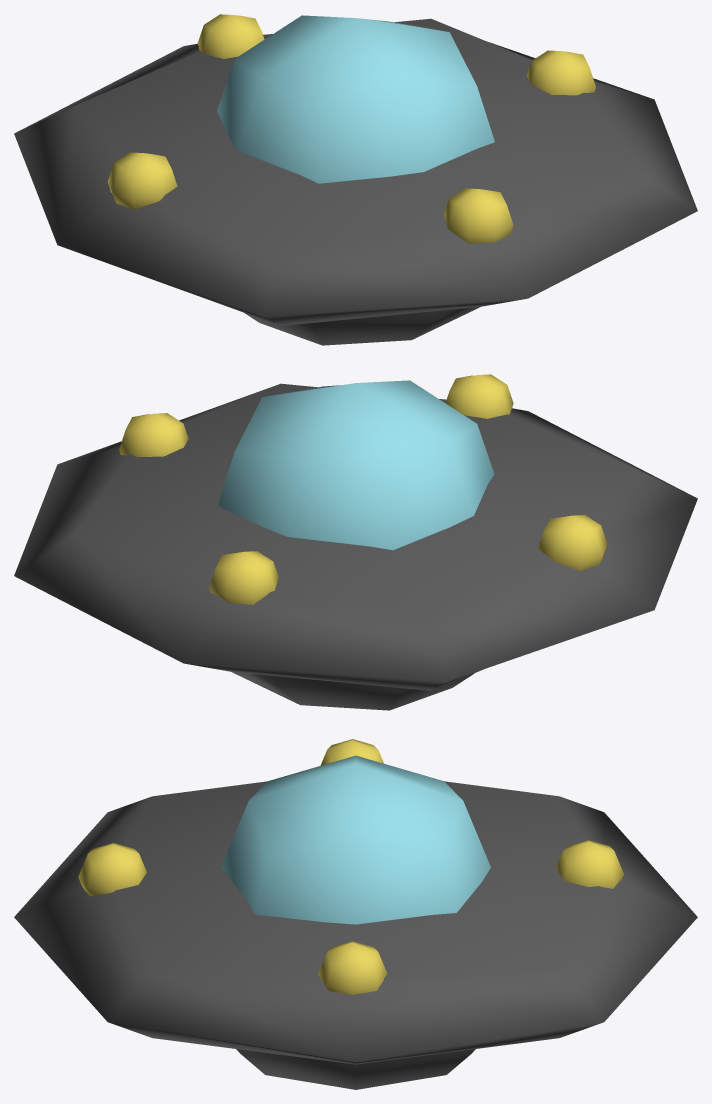
Rendered from ufo.glb.
The picture shows the model from 3 angles, top to bottom: view 1: azimuth 30°, elevation 25°; view 2: azimuth 150°, elevation 25°; view 3: azimuth 270°, elevation 25°; orthographic projection.
Parts seen in each view (by area): view 1: Cube.001, Cube.002, Cube, Cube.006, Cube.004, Cube.003, Cube.005; view 2: Cube.001, Cube.002, Cube, Cube.004, Cube.005, Cube.003, Cube.006; view 3: Cube.001, Cube.002, Cube, Cube.003, Cube.006, Cube.005, Cube.004.
Boxes of the visible parts, <box> form: Cube.001: <box>14,18,697,325</box>; Cube.002: <box>217,15,494,183</box>; Cube: <box>244,307,480,345</box>; Cube.006: <box>444,188,513,243</box>; Cube.004: <box>107,152,177,209</box>; Cube.003: <box>526,50,595,95</box>; Cube.005: <box>197,14,264,58</box>; Cube.001: <box>14,383,697,690</box>; Cube.002: <box>217,380,494,550</box>; Cube: <box>231,671,474,710</box>; Cube.004: <box>538,515,607,571</box>; Cube.005: <box>209,551,278,604</box>; Cube.003: <box>119,413,188,457</box>; Cube.006: <box>445,374,513,418</box>; Cube.001: <box>14,781,697,1064</box>; Cube.002: <box>221,755,490,924</box>; Cube: <box>236,1049,475,1089</box>; Cube.003: <box>318,941,387,995</box>; Cube.006: <box>78,843,146,896</box>; Cube.005: <box>555,840,623,888</box>; Cube.004: <box>320,739,383,765</box>.
Size of the model in its own units: 0.7182 by 0.3391 by 0.7182.
